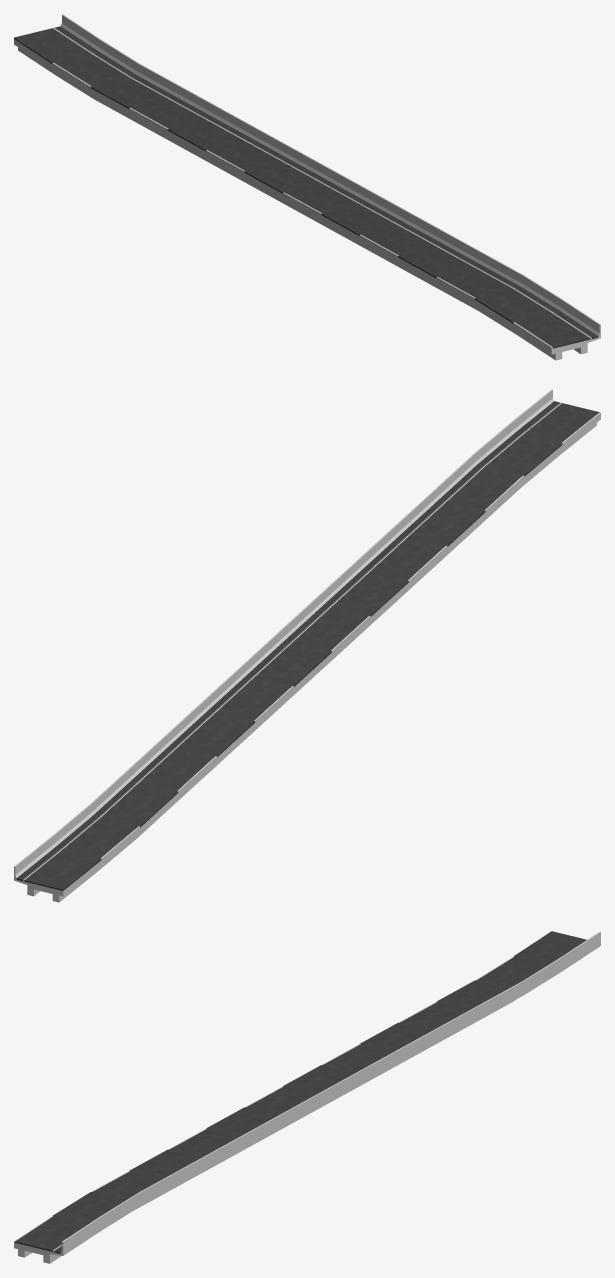
File: 【組立式】高速道路(上り勾配_左)_W4.2m×D70m×H6m.fbx
3 renders of one model, top to bottom at view 1: azimuth 30°, elevation 25°; view 2: azimuth 150°, elevation 25°; view 3: azimuth 330°, elevation 25°, orthographic.
Visible parts, largest first — view 1: 道路, 高架橋; view 2: 道路, 高架橋; view 3: 道路, 高架橋.
Boxes of the visible parts, x1,y1,x2,y2 form: 道路: [14, 26, 598, 348]; 高架橋: [14, 14, 600, 360]; 道路: [16, 401, 600, 890]; 高架橋: [14, 389, 600, 902]; 道路: [14, 931, 586, 1253]; 高架橋: [14, 931, 600, 1263].
Size of the model in its own units: 3.7 by 7.8 by 70.
